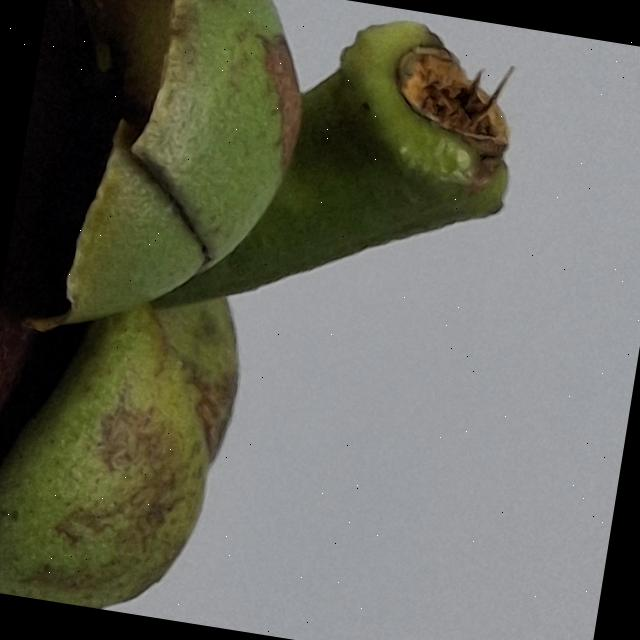mangosteen: (0, 0, 627, 640)
